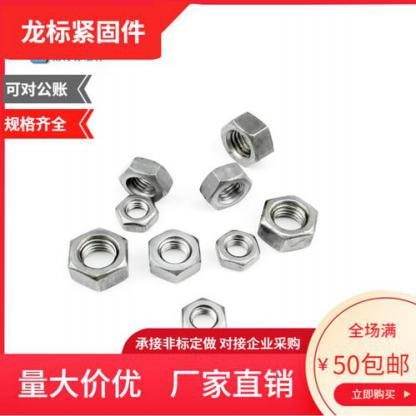FOD: (63, 232, 134, 292), (257, 193, 320, 252), (217, 108, 275, 167), (147, 228, 205, 281), (197, 163, 252, 213), (116, 154, 172, 202), (179, 294, 228, 338), (114, 191, 164, 231), (214, 228, 261, 269)
